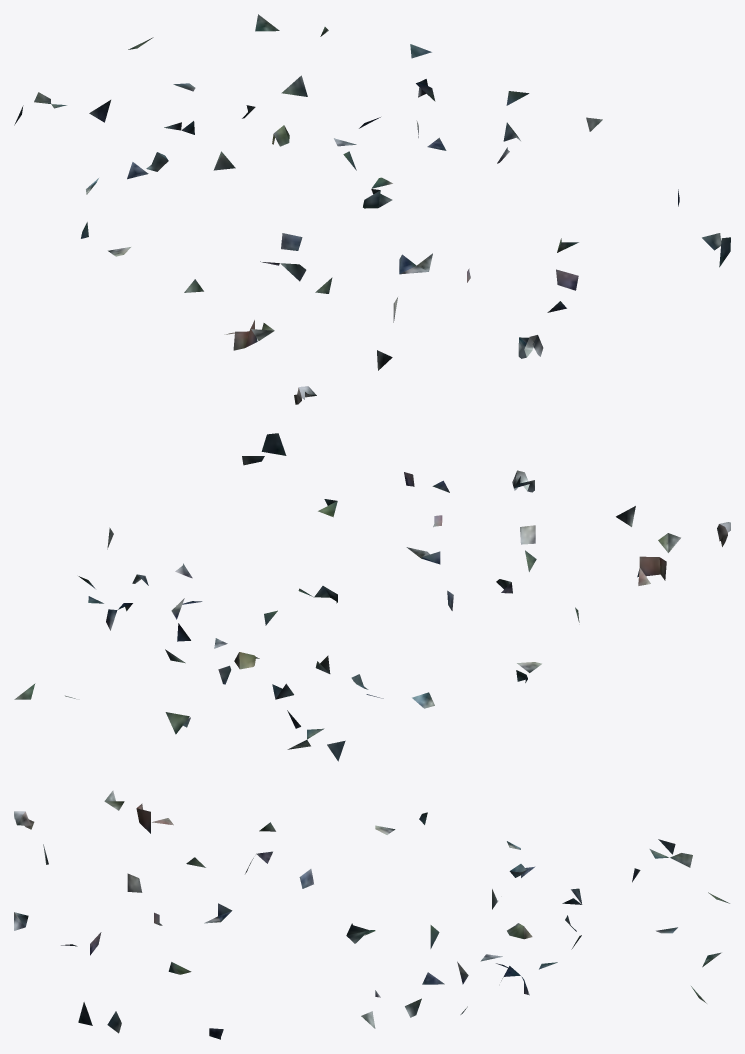
3 renders of one model, top to bottom at view 1: azimuth 30°, elevation 25°; view 2: azimuth 150°, elevation 25°; view 3: azimuth 270°, elevation 25°, orthographic. The views are drawn at different scales.
Visible parts, largest first — view 1: 30436272704361735_1; view 2: 30436272704361735_1; view 3: 30436272704361735_1.
Part boxes in pixels (x1,y1,x2,y2): 30436272704361735_1: (14,14,730,404); 30436272704361735_1: (14,433,730,761); 30436272704361735_1: (14,790,729,1039).
Bounding box in the file's own units: 218 × 23.48 × 304.
1 material, 1 textured.
